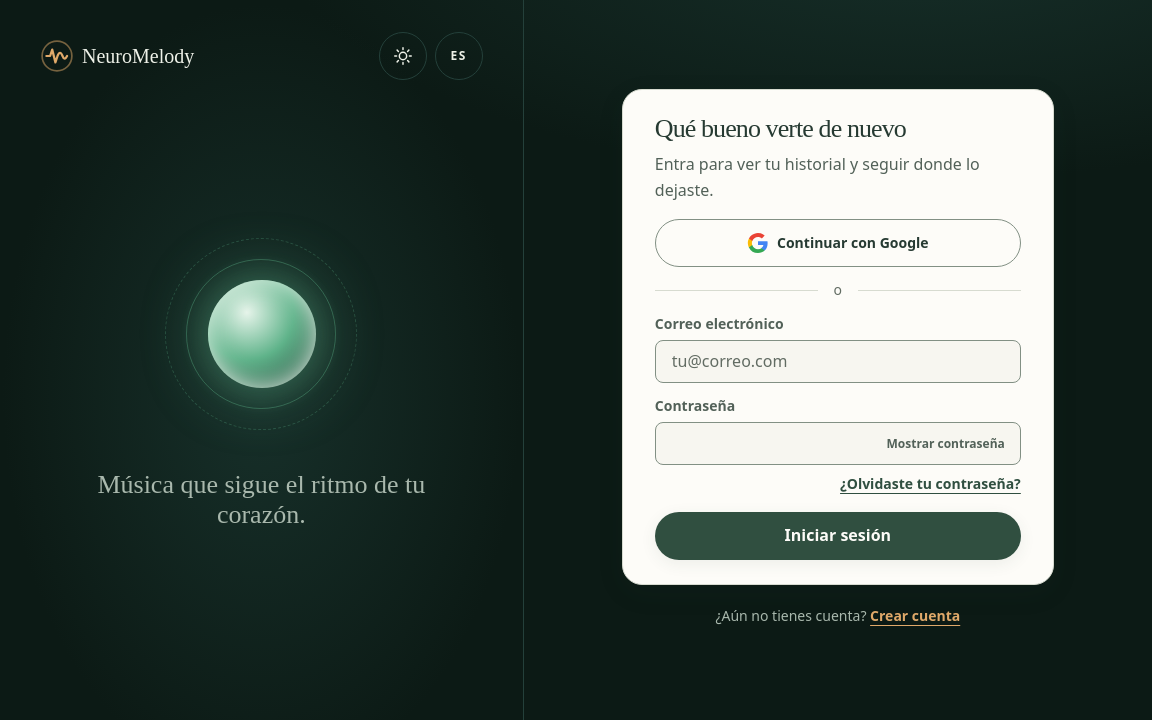
Test: sign-in screens › words a rejected password from the dictionary
This screenshot has width=1152, height=720.
Type "persona@example.test" into the field labelled "Correo electrónico" at (838, 362), box [655, 340, 1021, 383]
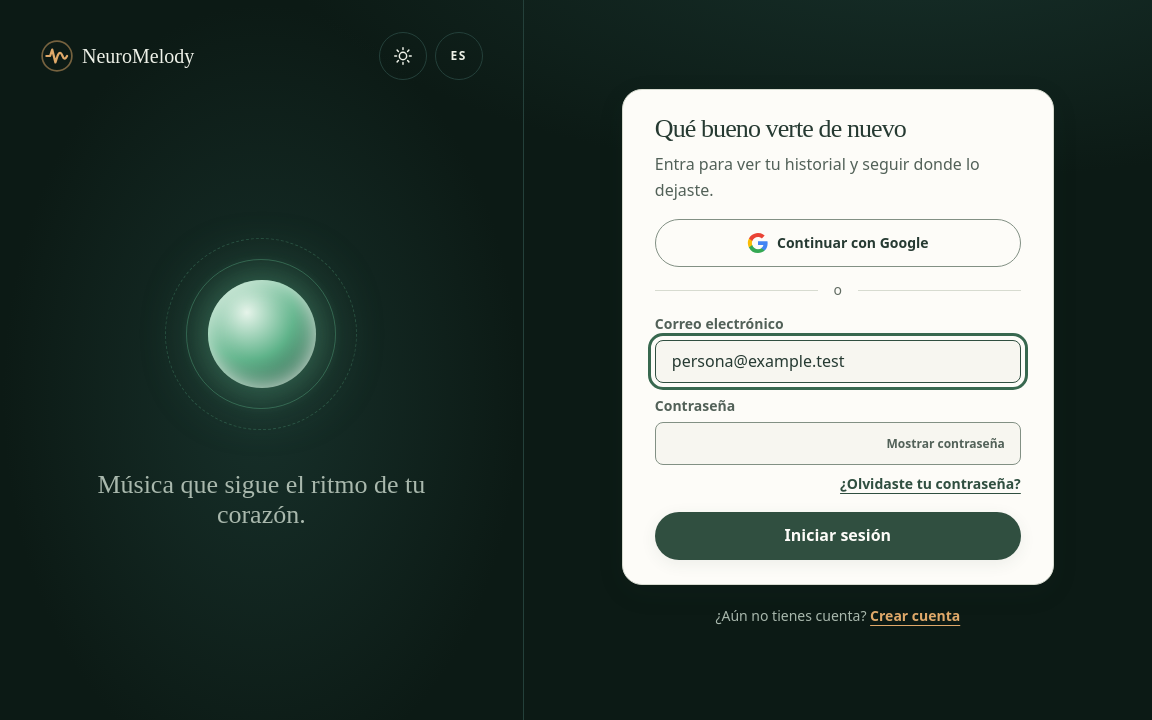
Type "Una-contraseña-larga1" into the password field labelled "Contraseña" at (838, 444), box [655, 422, 1021, 465]
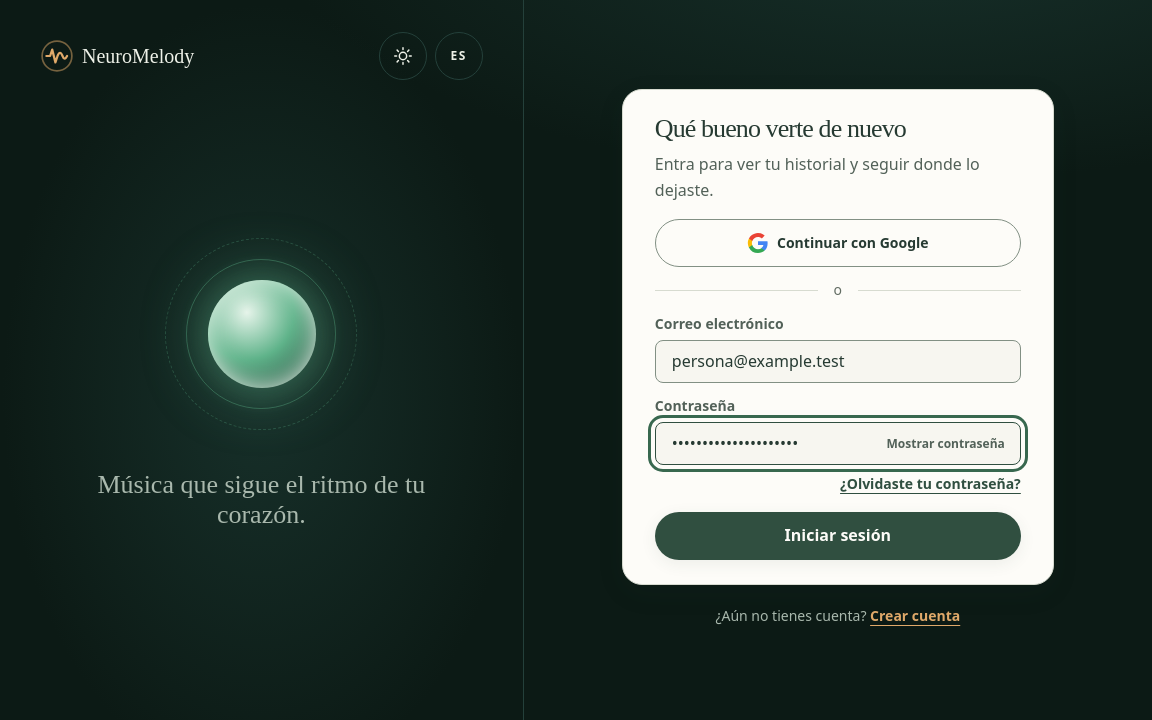
Click the button "Iniciar sesión" at (838, 536), box [655, 512, 1021, 560]
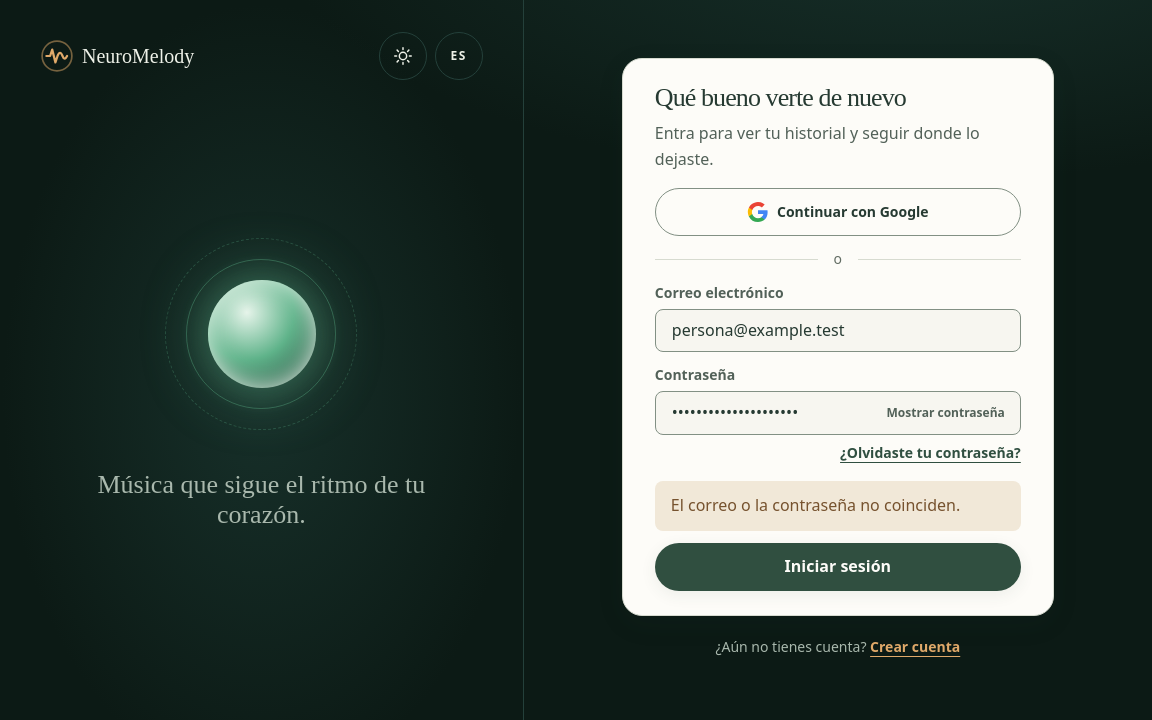
Now the text "El correo o la contraseña no coinciden." is shown, box [655, 481, 1021, 530]
